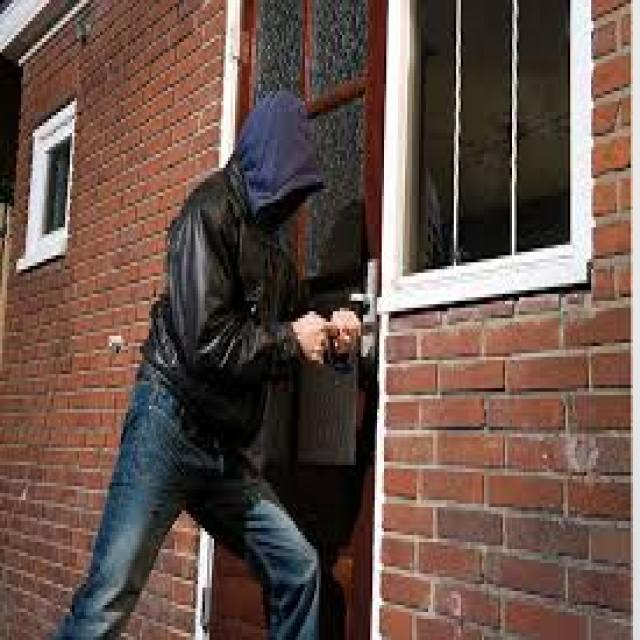intrusion detected: (61, 91, 366, 640)
